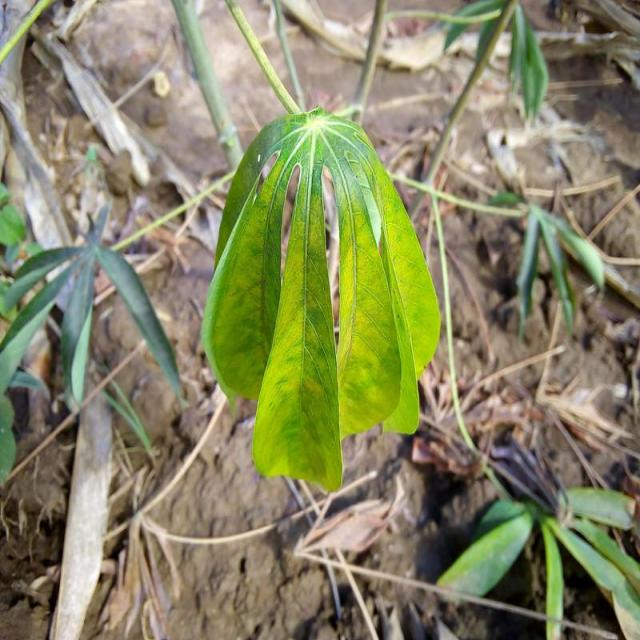cassava leaf: (202, 104, 442, 492)
